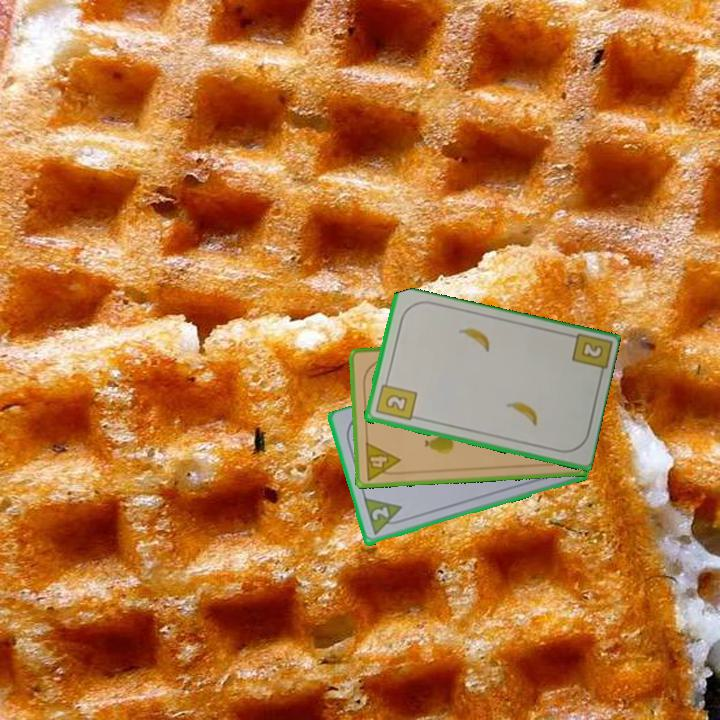2b: (372, 375, 419, 423), (577, 338, 606, 362)
2p: (360, 495, 408, 539)
4p: (361, 438, 404, 483)
